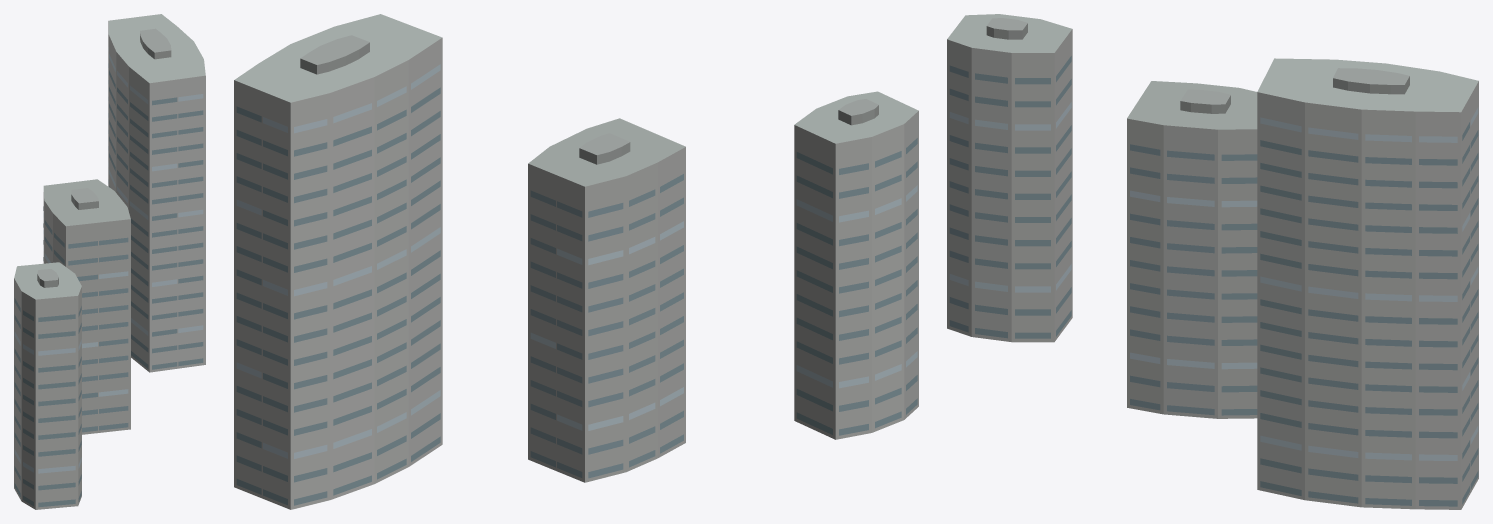
File: apt-a13713002.glb
3 renders of one model, left to right at view 1: azimuth 30°, elevation 25°; view 2: azimuth 150°, elevation 25°; view 3: azimuth 270°, elevation 25°, orthographic. The views are drawn at different scales.
Parts seen in each view (by area): view 1: apt-a13713002; view 2: apt-a13713002; view 3: apt-a13713002.
Part boxes in pixels (left/top/right/bottom): apt-a13713002: left=14, top=14, right=205, bottom=509; apt-a13713002: left=234, top=14, right=918, bottom=509; apt-a13713002: left=947, top=14, right=1478, bottom=509.
Bounding box in the file's own units: 114 × 105 × 124.
